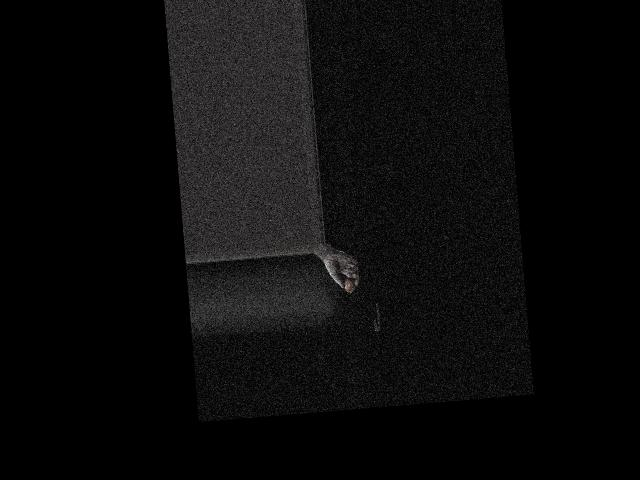egg: (343, 276, 355, 292)
